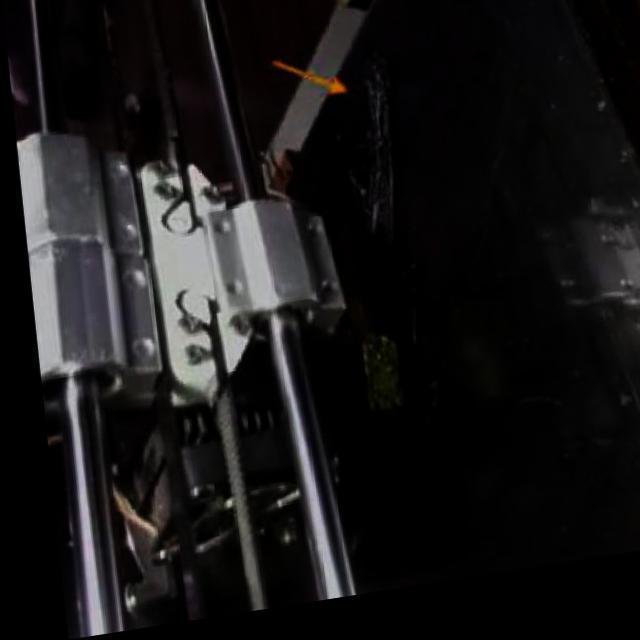spaghetti: (350, 59, 390, 102), (338, 167, 365, 216)
